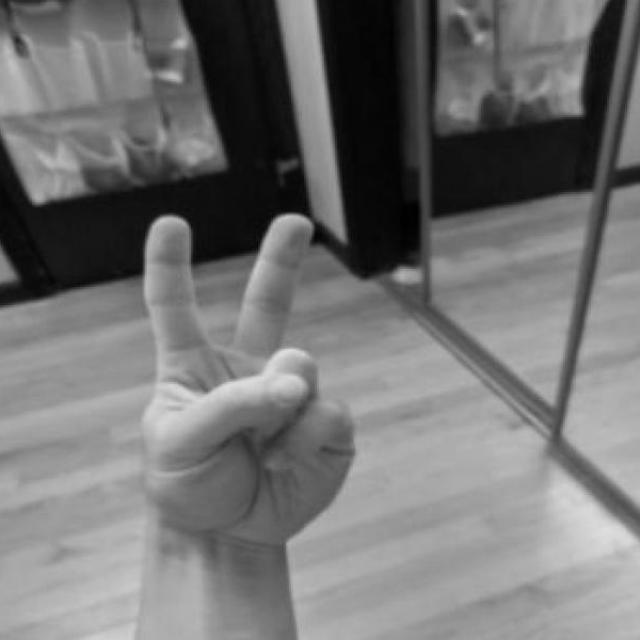V: (103, 192, 362, 640)
